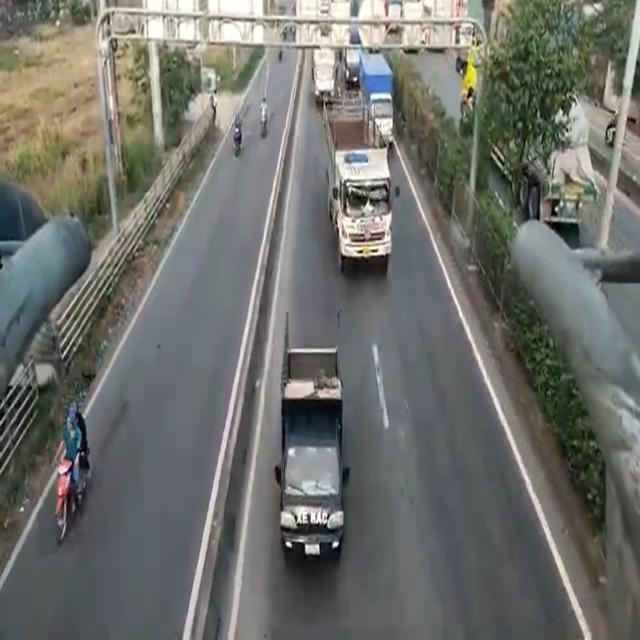motor: (48, 447, 83, 542), (229, 113, 248, 160)
truck: (287, 327, 341, 573), (320, 95, 388, 273), (358, 50, 396, 132)
